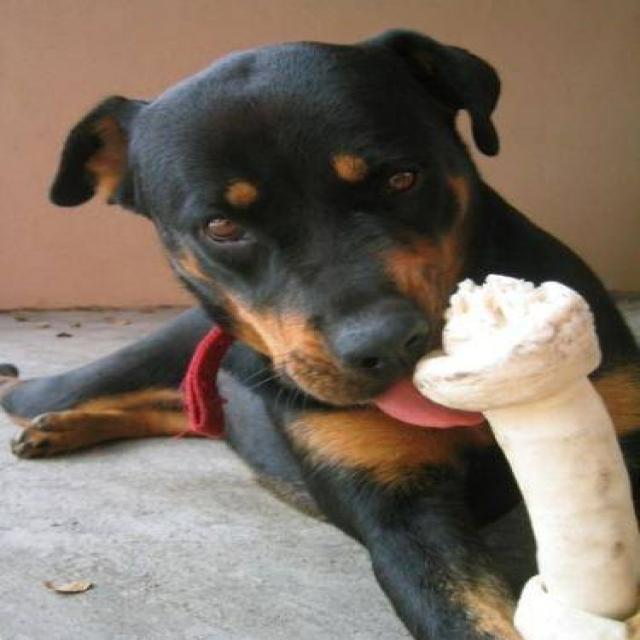dogs: (25, 20, 640, 640)
